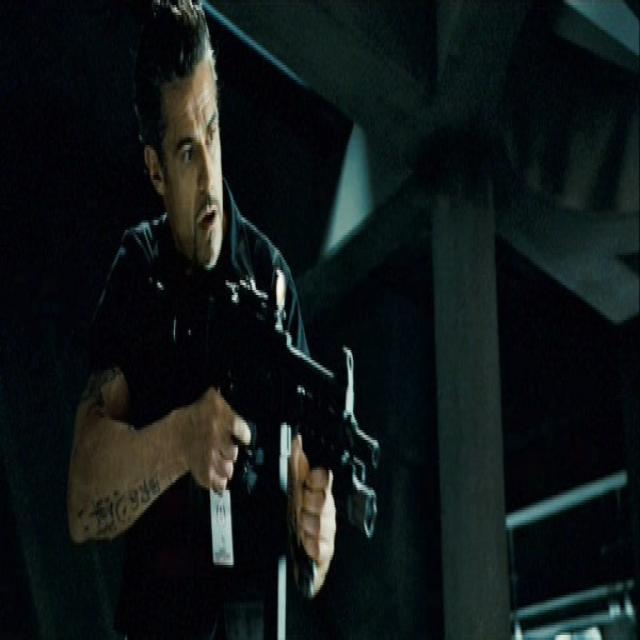rifle: (149, 251, 386, 546)
